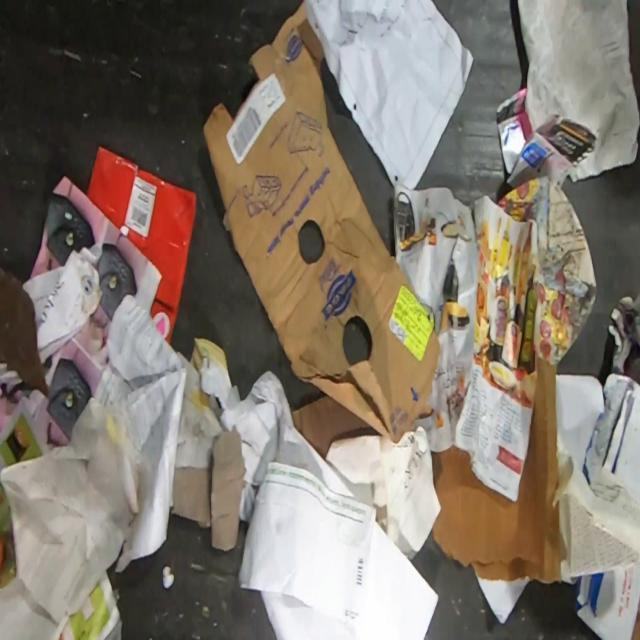cardboard: (202, 0, 440, 444), (430, 357, 566, 586), (86, 144, 197, 346), (171, 425, 246, 550), (0, 264, 48, 396), (291, 395, 381, 458)
